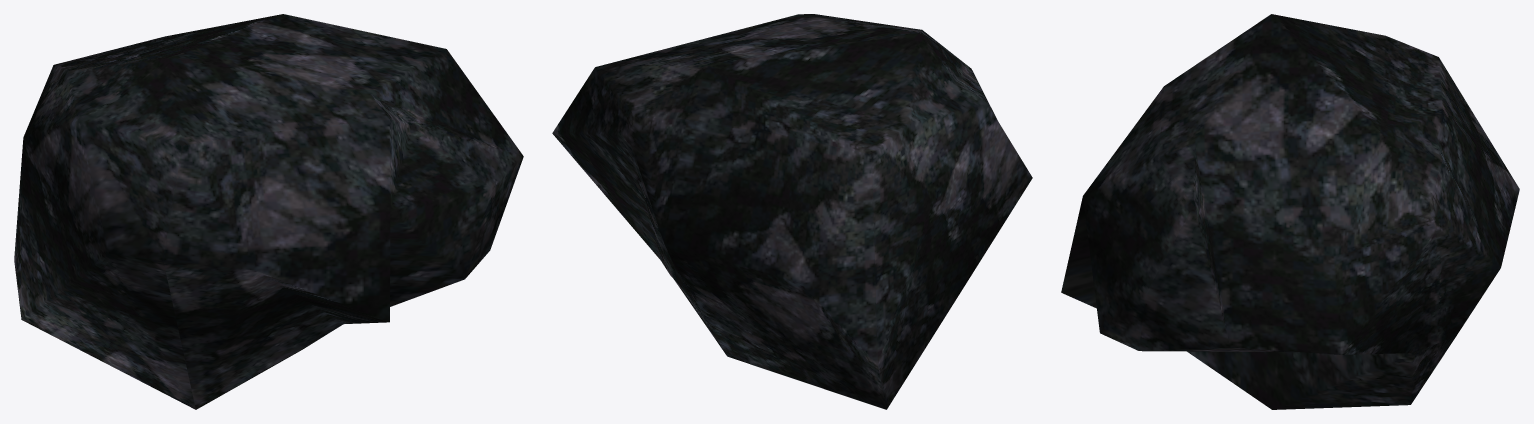
Rendered from asteroid_obsidian_medium_s01_l3.fbx.
3 renders of one model, left to right at view 1: azimuth 30°, elevation 25°; view 2: azimuth 150°, elevation 25°; view 3: azimuth 270°, elevation 25°, orthographic. The views are drawn at different scales.
Parts seen in each view (by area): view 1: mesh_node; view 2: mesh_node; view 3: mesh_node.
Part boxes in pixels (left/top/right/bottom): mesh_node: left=14, top=14, right=523, bottom=409; mesh_node: left=552, top=14, right=1032, bottom=409; mesh_node: left=1061, top=14, right=1519, bottom=409.
Size of the model in its own units: 85.2 by 66.86 by 75.88.
Materials: 1 (1 with a texture image).
